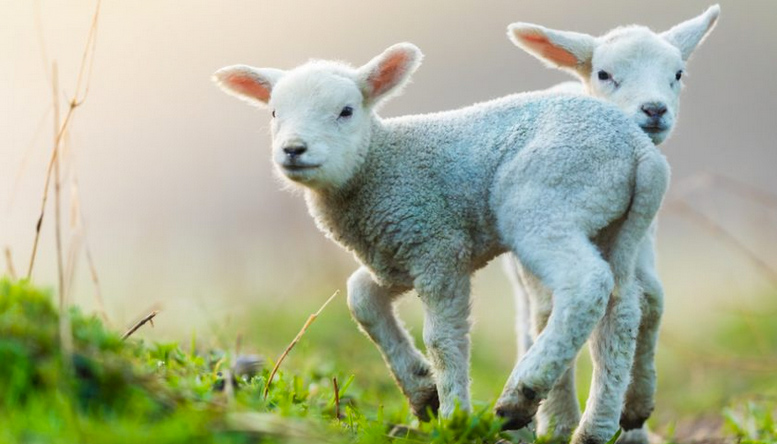koyun: (217, 65, 668, 444), (510, 4, 727, 146)
